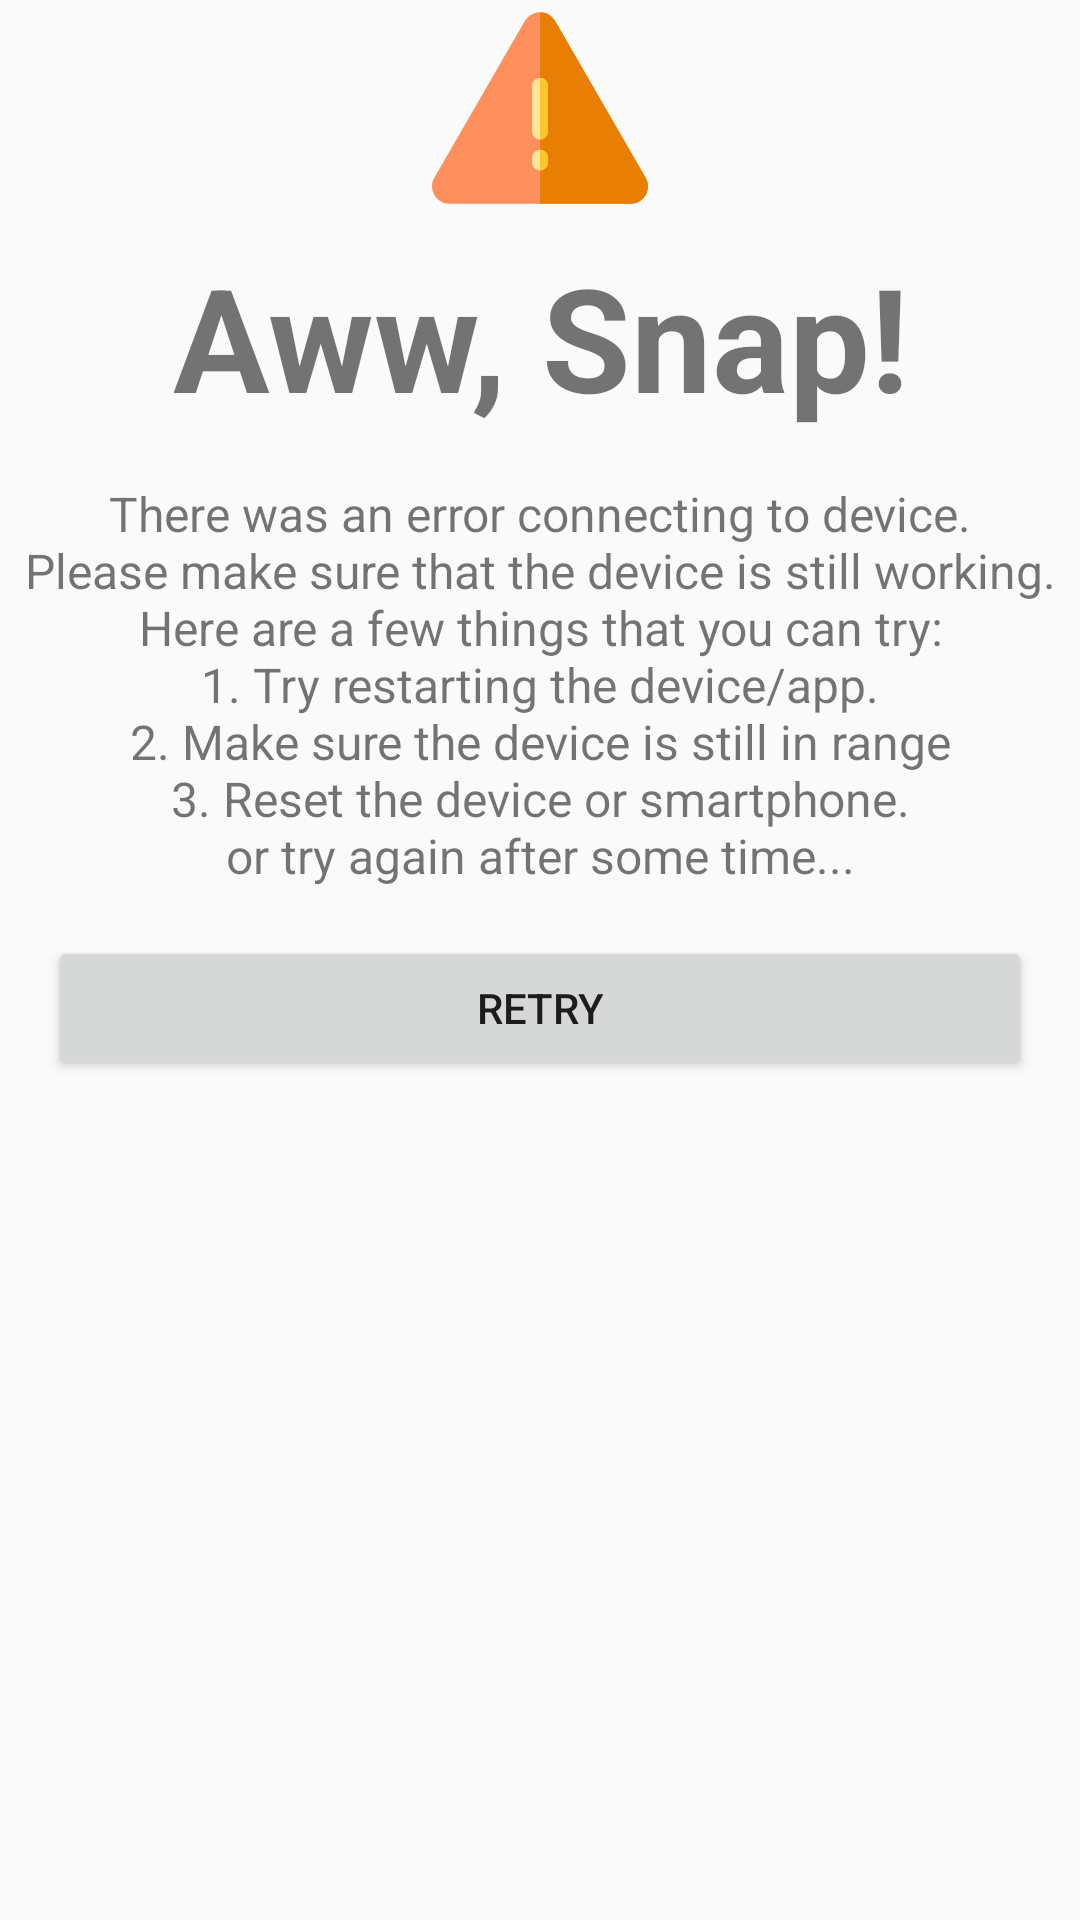

Named icons in this screenshot (1080×1920) and their centers, (x,y):
error: (540,108)
